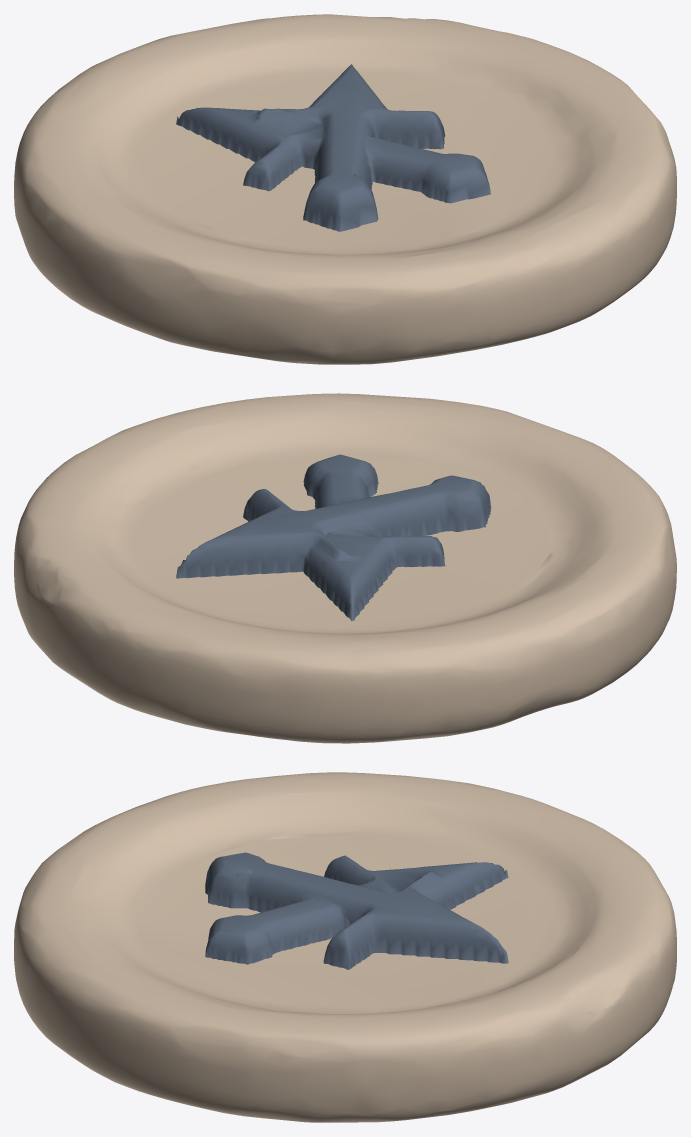
File: token-rogue-red-draco.glb
3 renders of one model, top to bottom at view 1: azimuth 30°, elevation 25°; view 2: azimuth 150°, elevation 25°; view 3: azimuth 270°, elevation 25°, orthographic.
Parts seen in each view (by area): view 1: token_rogue_red; view 2: token_rogue_red; view 3: token_rogue_red.
Part boxes in pixels (box(x1,y1,x2,y2)): token_rogue_red: box(14, 14, 676, 364); token_rogue_red: box(14, 393, 676, 743); token_rogue_red: box(14, 772, 676, 1122).
Bounding box in the file's own units: 0.414 × 0.0722 × 0.4142.
